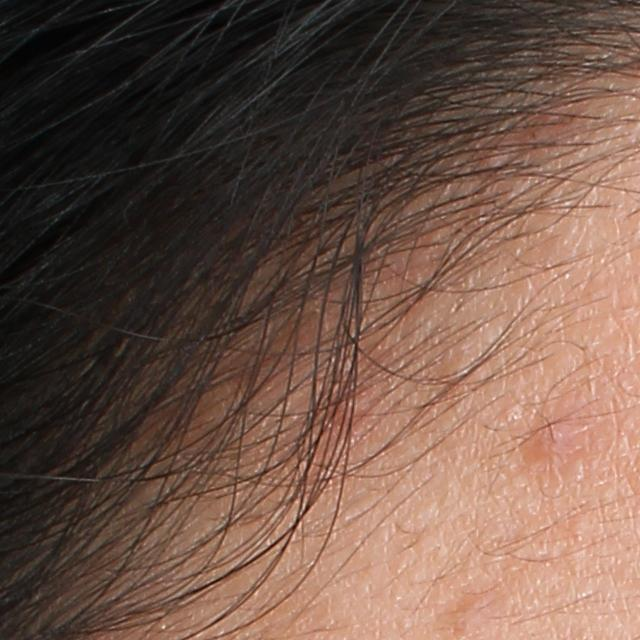comedo: (565, 510, 593, 536)
